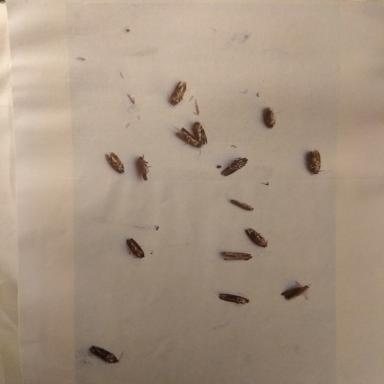pbw: (169, 124, 204, 156), (87, 344, 127, 366), (278, 280, 313, 302), (215, 290, 253, 310), (219, 156, 251, 178), (244, 226, 271, 252), (102, 151, 128, 176), (305, 148, 327, 177), (122, 236, 148, 260), (168, 80, 190, 108), (134, 153, 154, 183), (188, 121, 208, 148), (260, 106, 282, 129), (219, 250, 256, 263), (228, 198, 256, 212)
